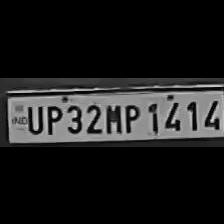1: (142, 98, 160, 132), (181, 96, 199, 130)
2: (82, 99, 102, 133)
3: (62, 100, 82, 134)
4: (160, 96, 182, 132), (200, 96, 220, 128)
M: (103, 99, 123, 133)
P: (121, 100, 141, 134), (43, 100, 62, 134)
U: (23, 101, 43, 133)
